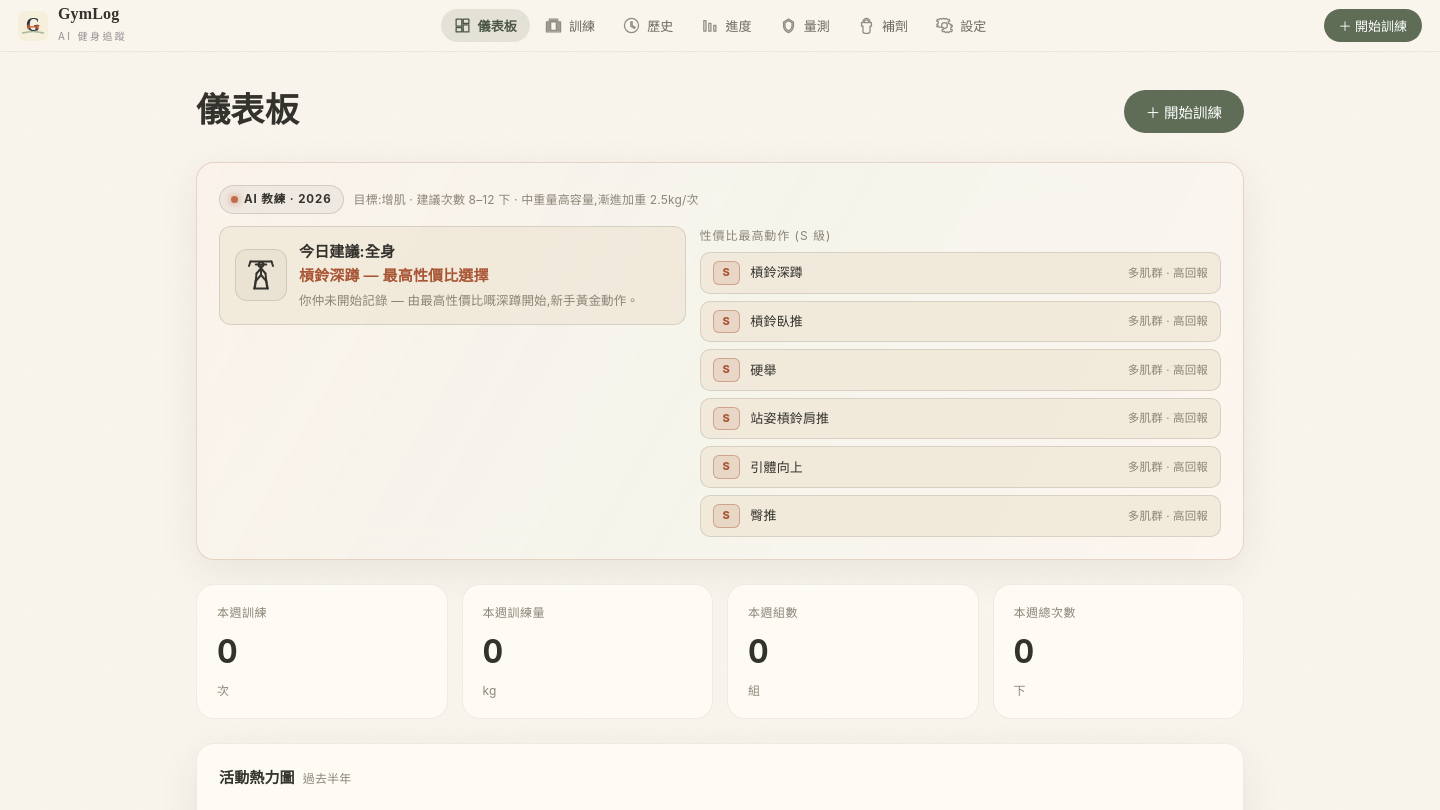
GymLog 完整流程 › 無數據時進度頁顯示空狀態
Click the button "進度" at (727, 26), box 688,9 -> 765,42
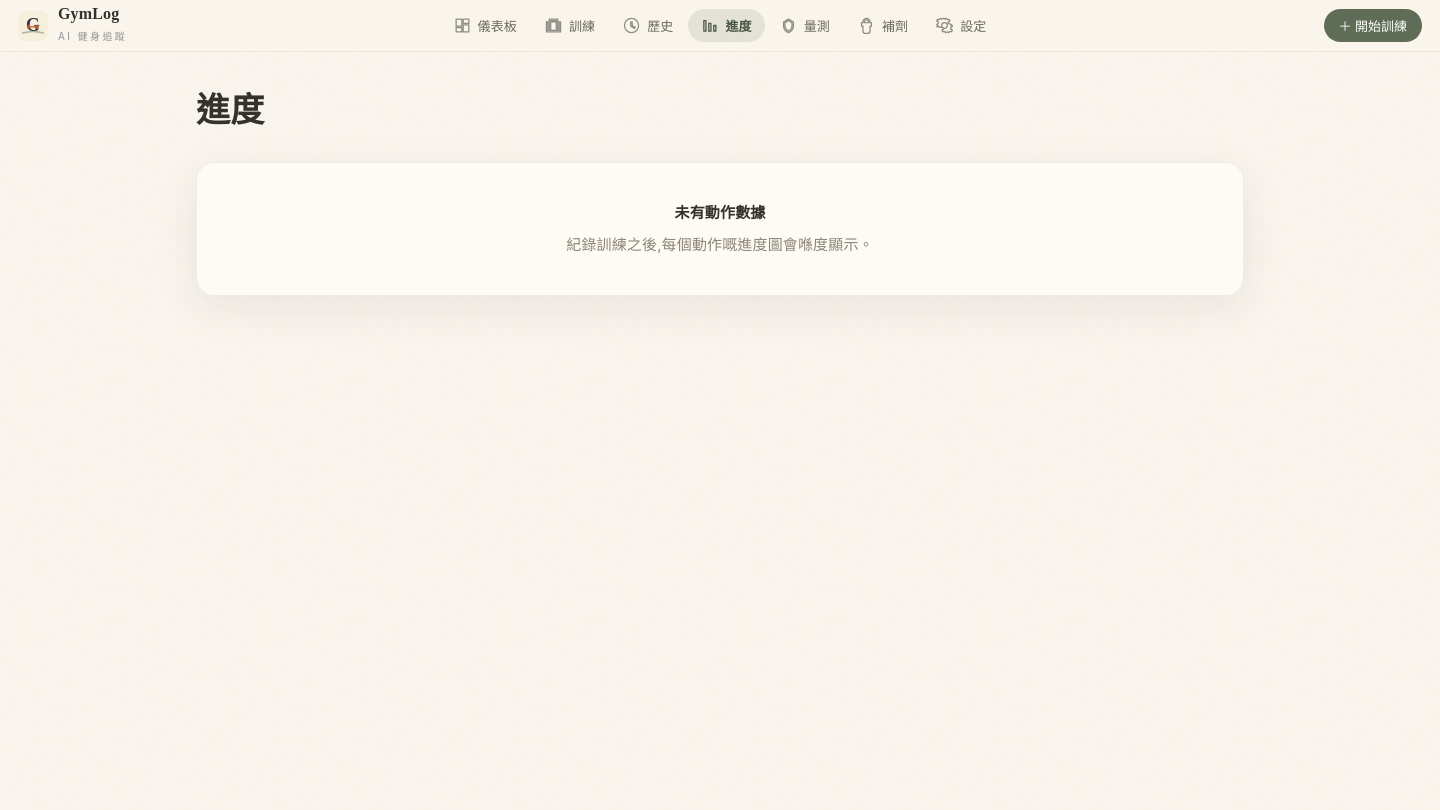
Check: the heading "未有動作數據" is shown, box 674,201 -> 765,225
